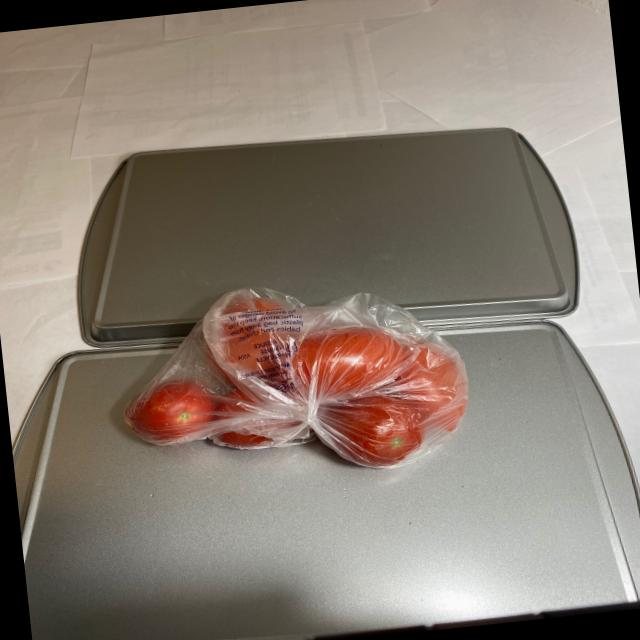tomato: (112, 269, 478, 492)
